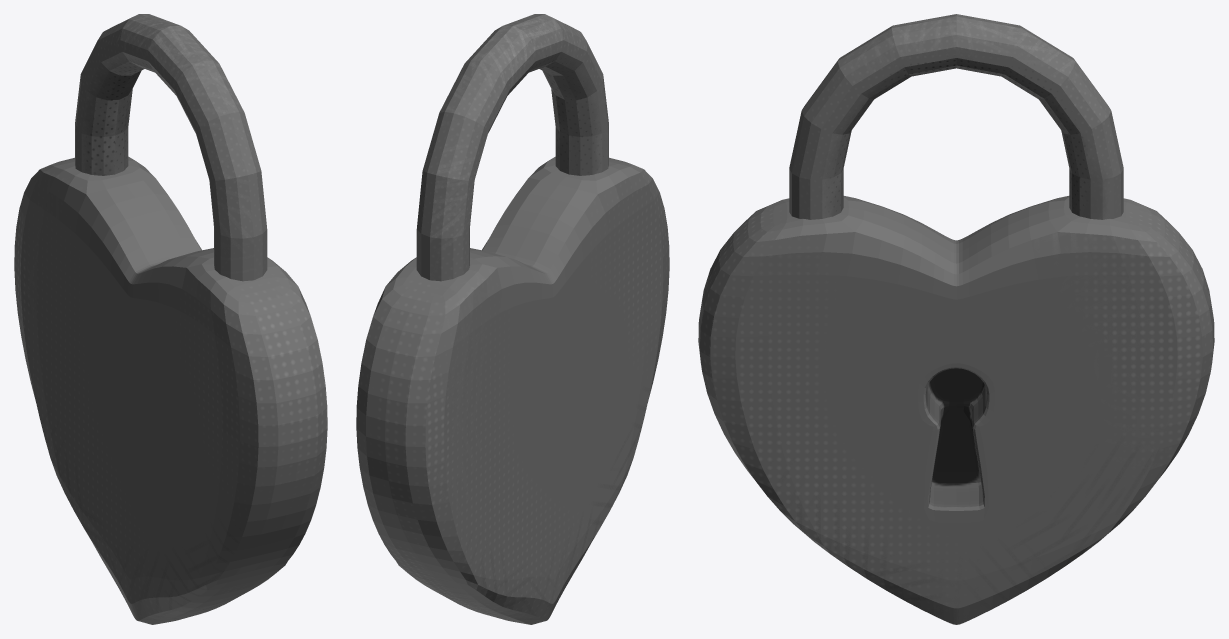
Rendered from DiaryLock.fbx.
The picture shows the model from 3 angles, left to right: view 1: azimuth 30°, elevation 25°; view 2: azimuth 150°, elevation 25°; view 3: azimuth 270°, elevation 25°; orthographic projection.
Visible parts, largest first — view 1: Plane.001; view 2: Plane.001; view 3: Plane.001.
Part boxes in pixels (bbox=[...]): Plane.001: bbox=[14, 14, 327, 624]; Plane.001: bbox=[356, 14, 669, 624]; Plane.001: bbox=[698, 14, 1214, 624].
Size of the model in its own units: 25.55 by 175 by 137.
Materials: 1 (1 with a texture image).
